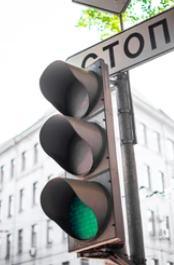green_light: (40, 58, 124, 253)
